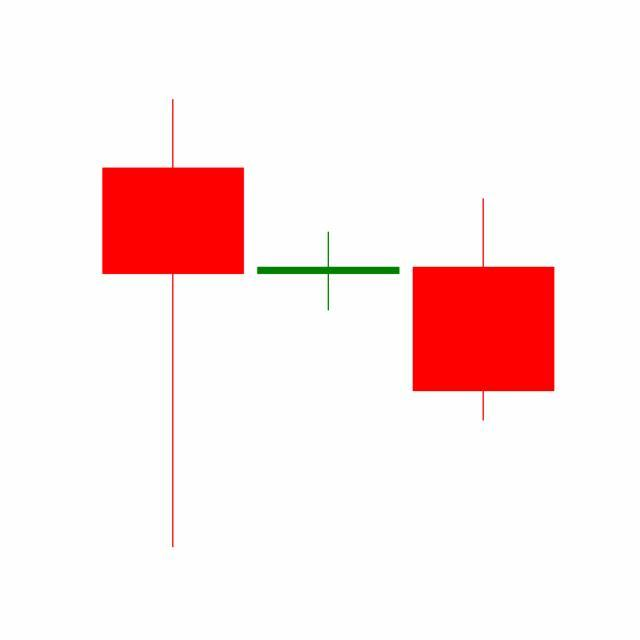Spinning Top: (250, 231, 407, 312)
